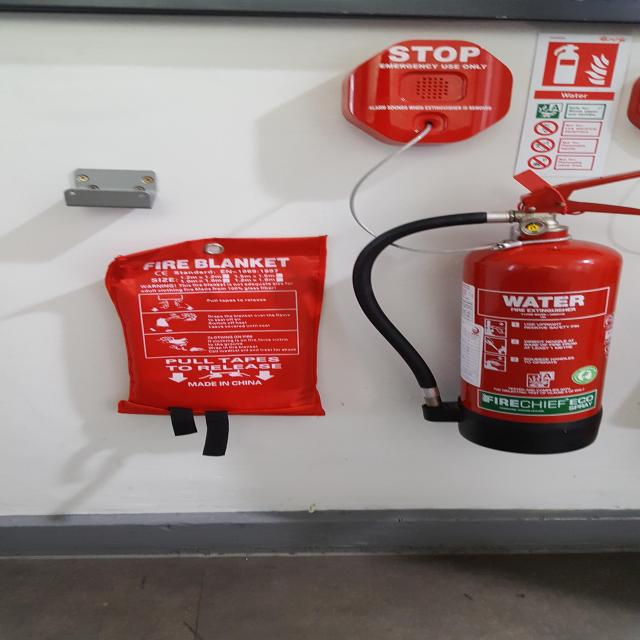fire_extinguisher: (346, 168, 640, 460)
